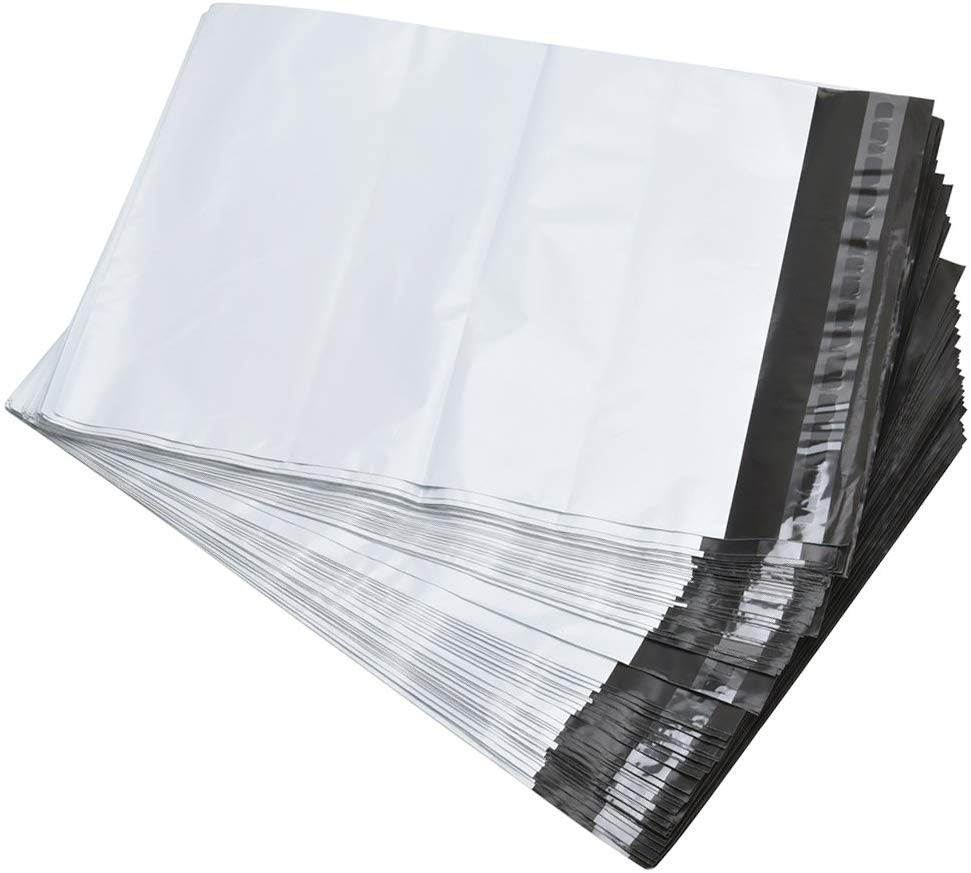塑料袋: (43, 6, 946, 861)
